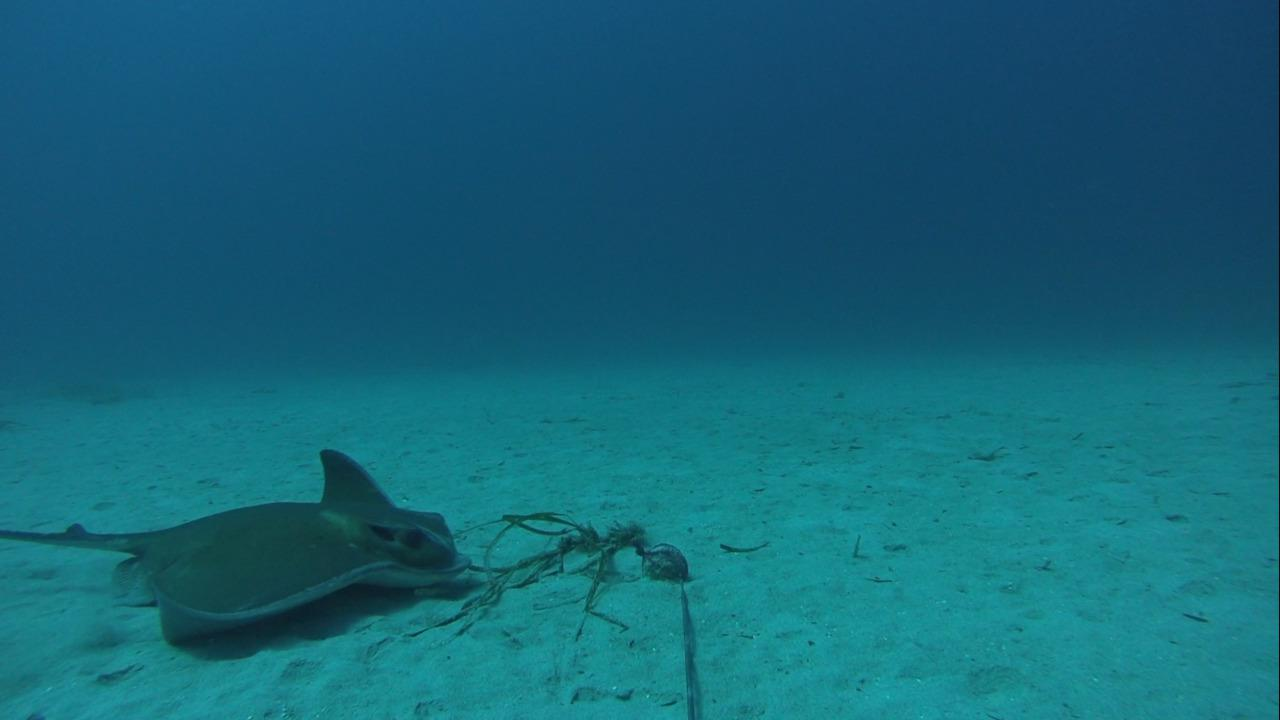myliobatis: (4, 439, 487, 650)
